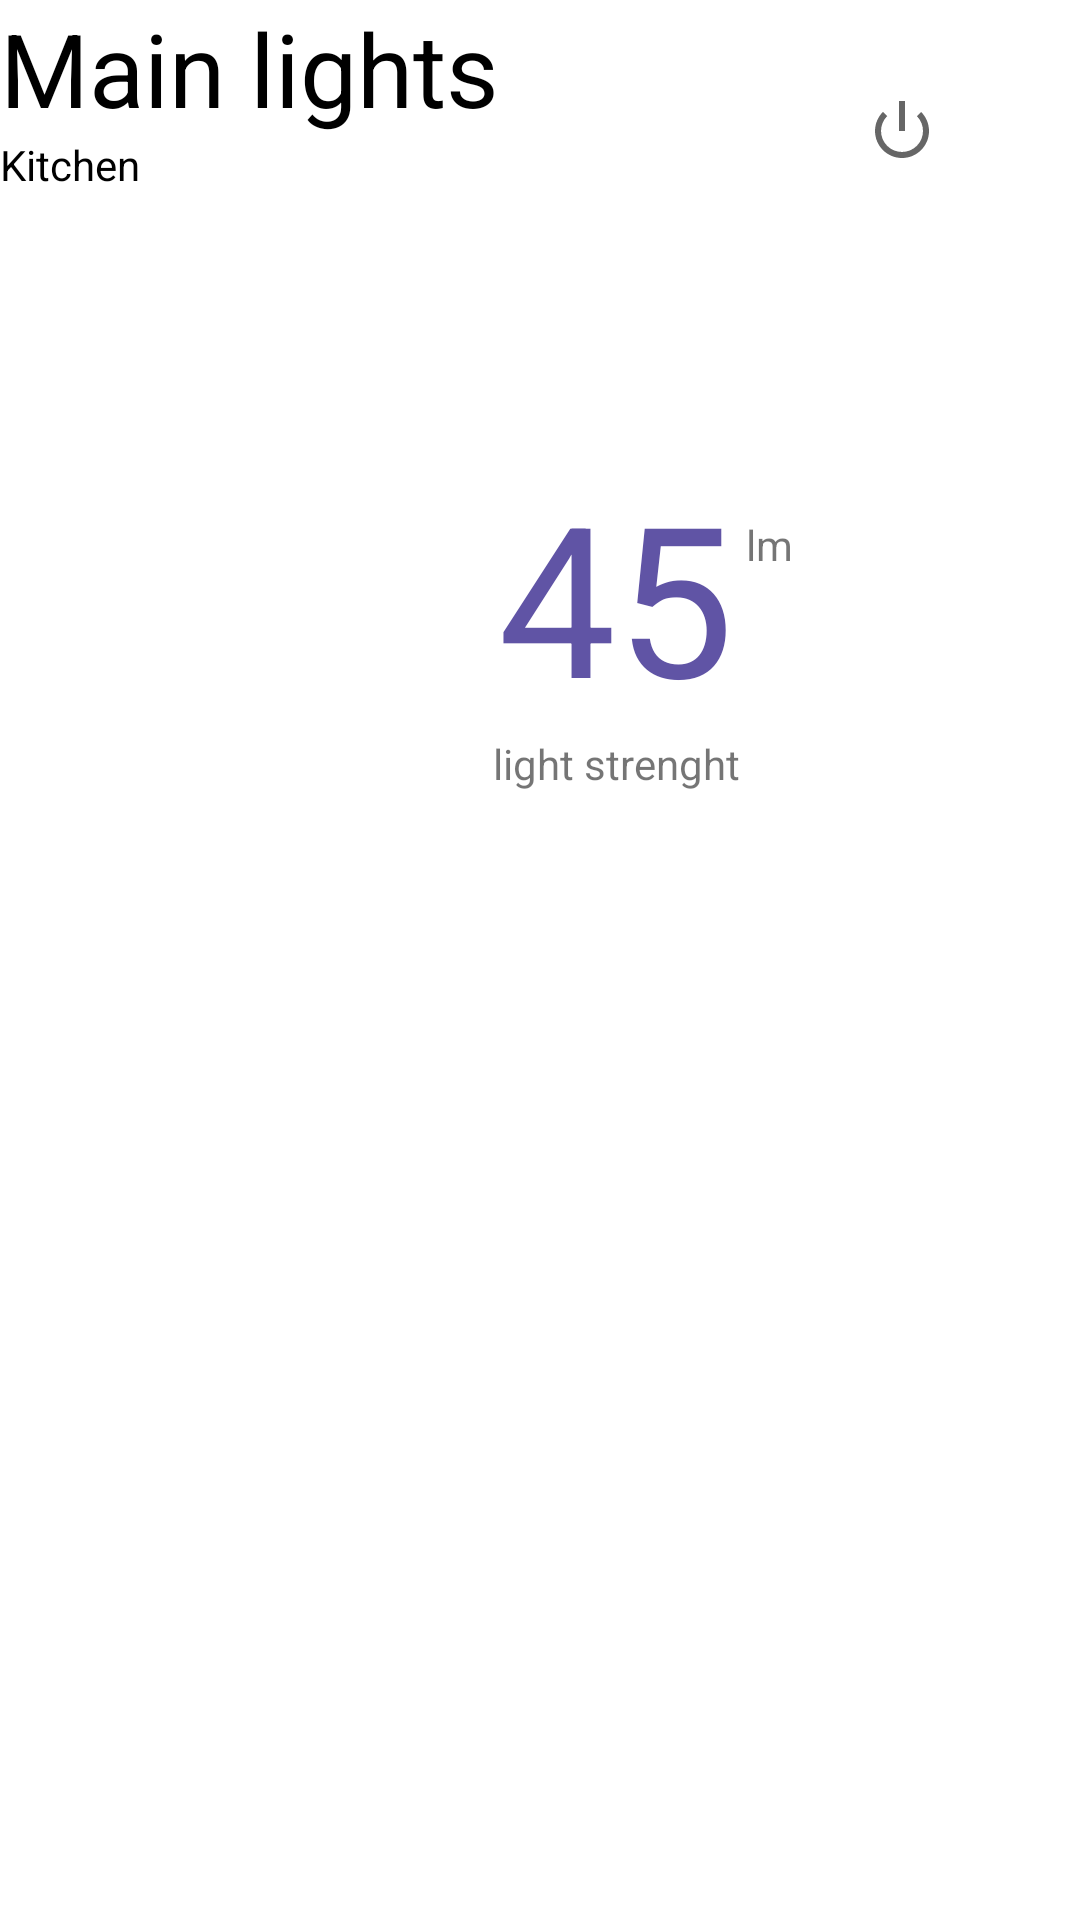

Point at icon controls on the screen. Image size 1080×1920, points as point (x, y).
lock power off: point (902, 129)
